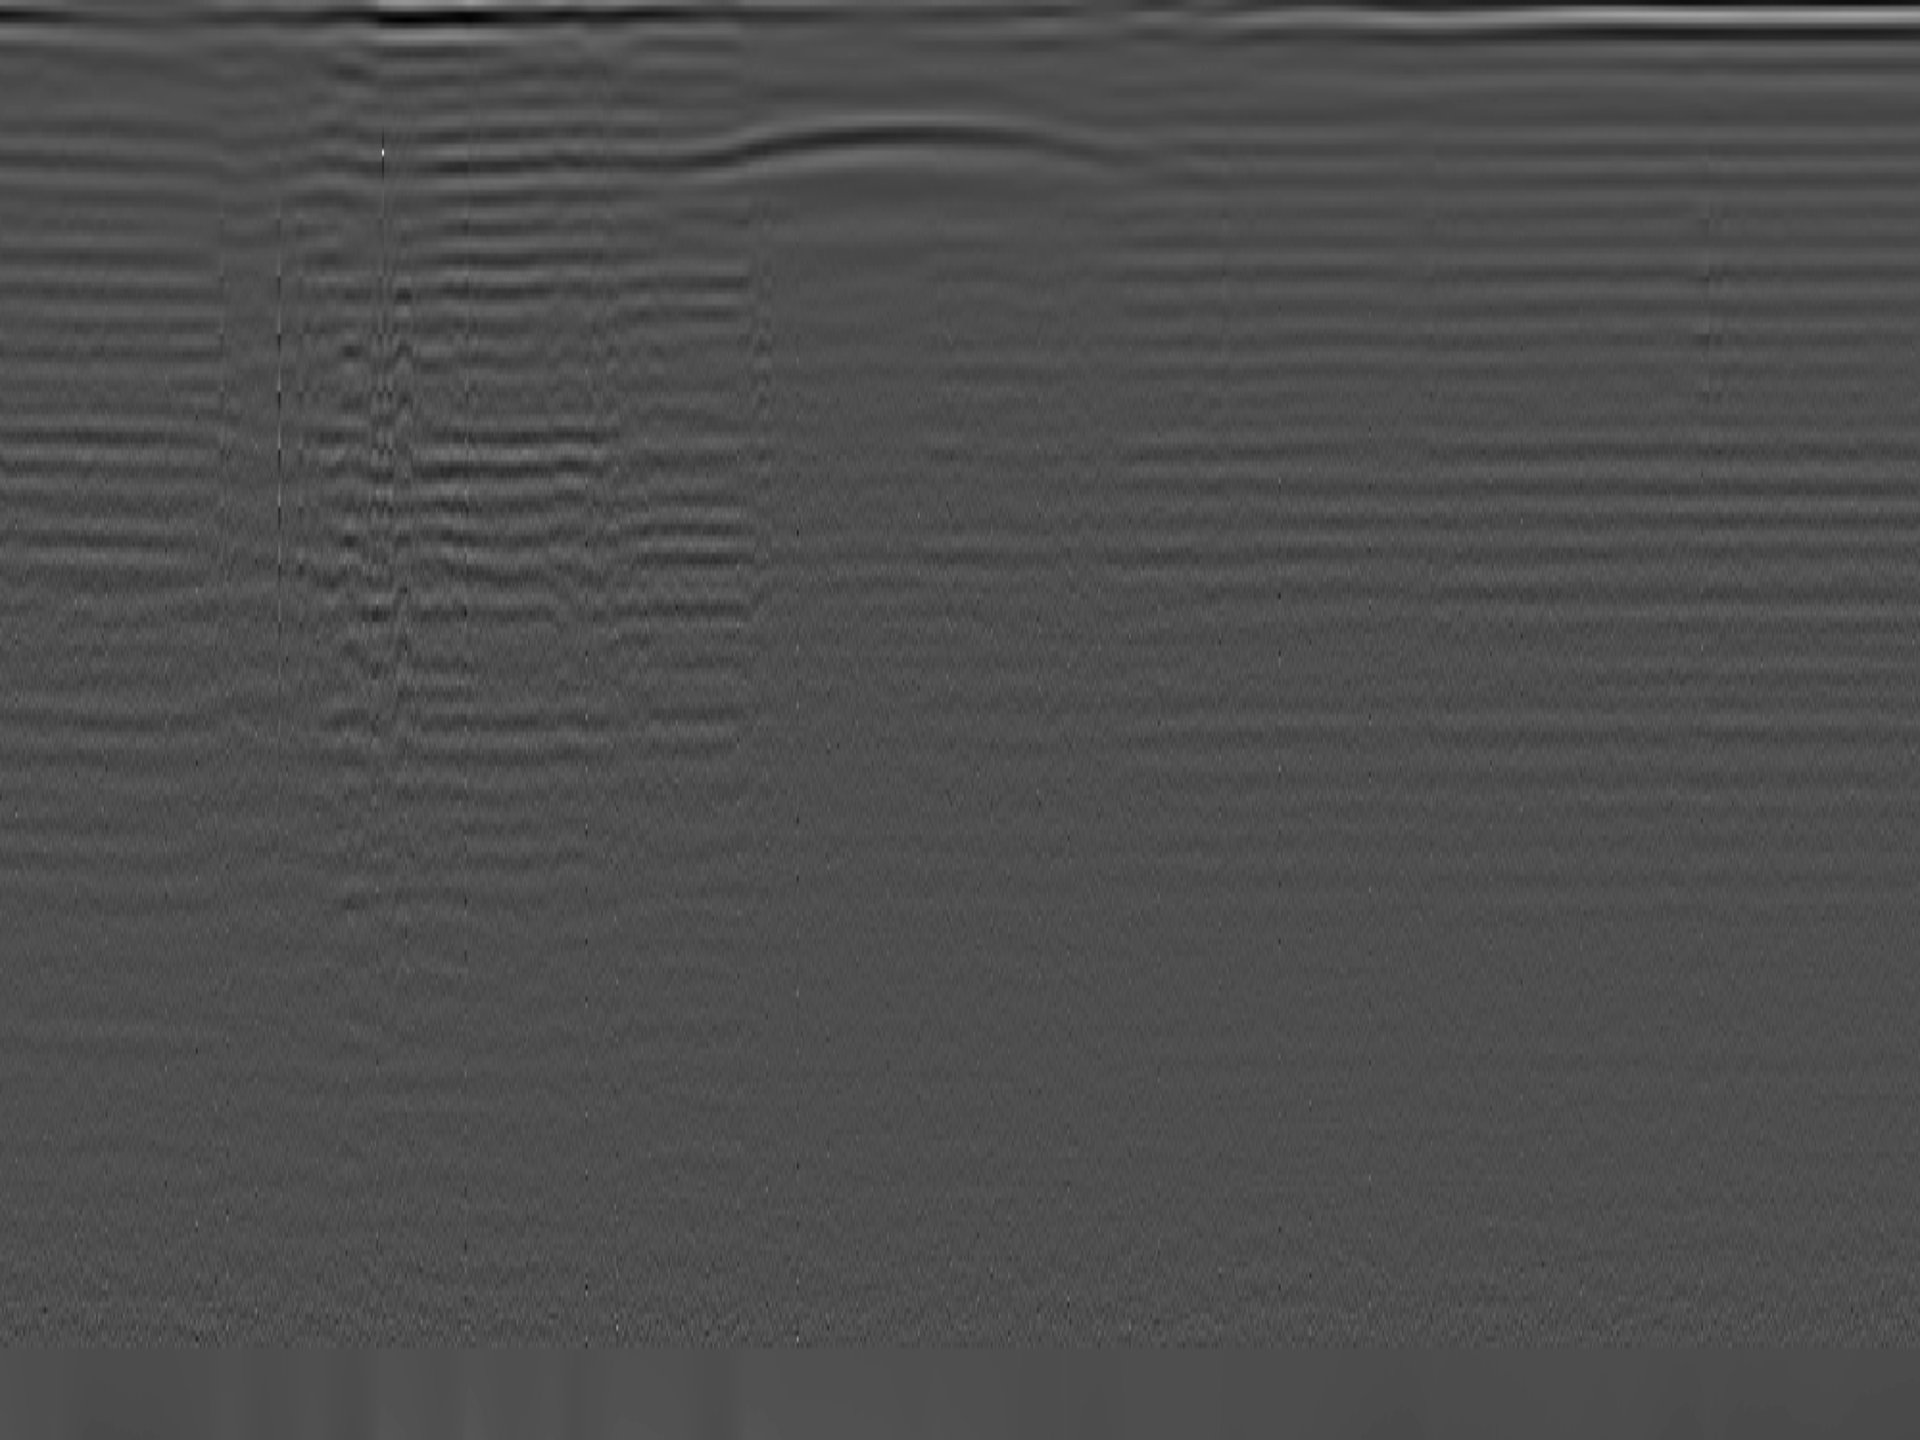Tunnel: (688, 109, 1144, 178)
